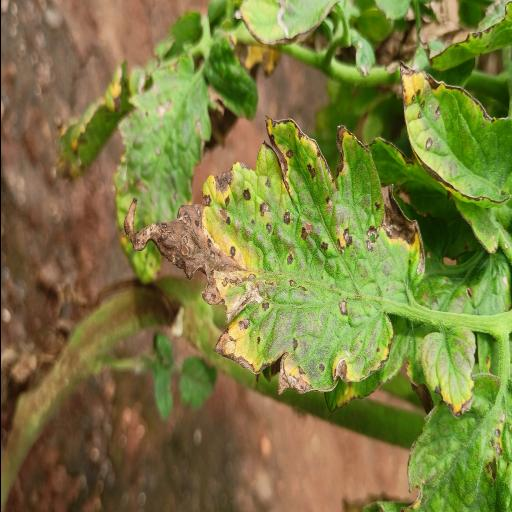Early Blight: (120, 108, 426, 405)
